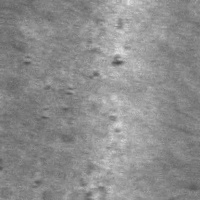rolled-in_scale: (22, 63, 78, 131), (79, 9, 123, 59)
